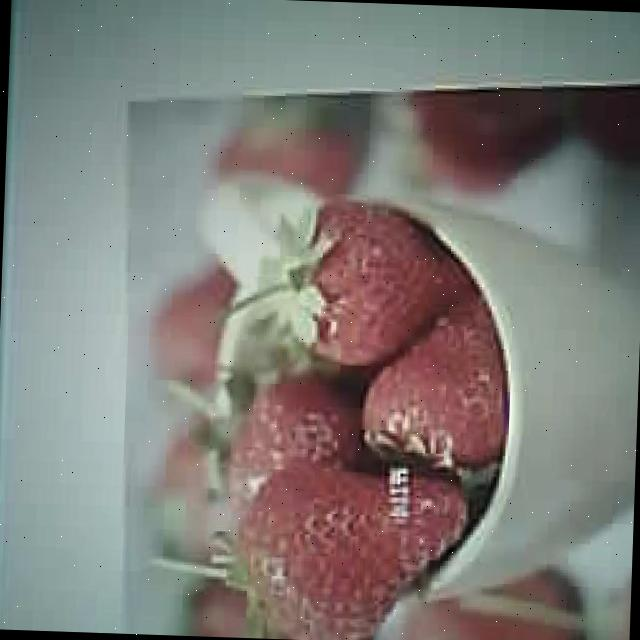strawberry: (241, 460, 469, 640), (283, 198, 463, 368), (363, 299, 514, 462)
